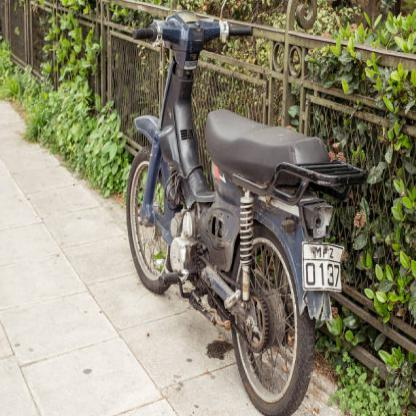Motorcycle: (104, 0, 373, 415)
